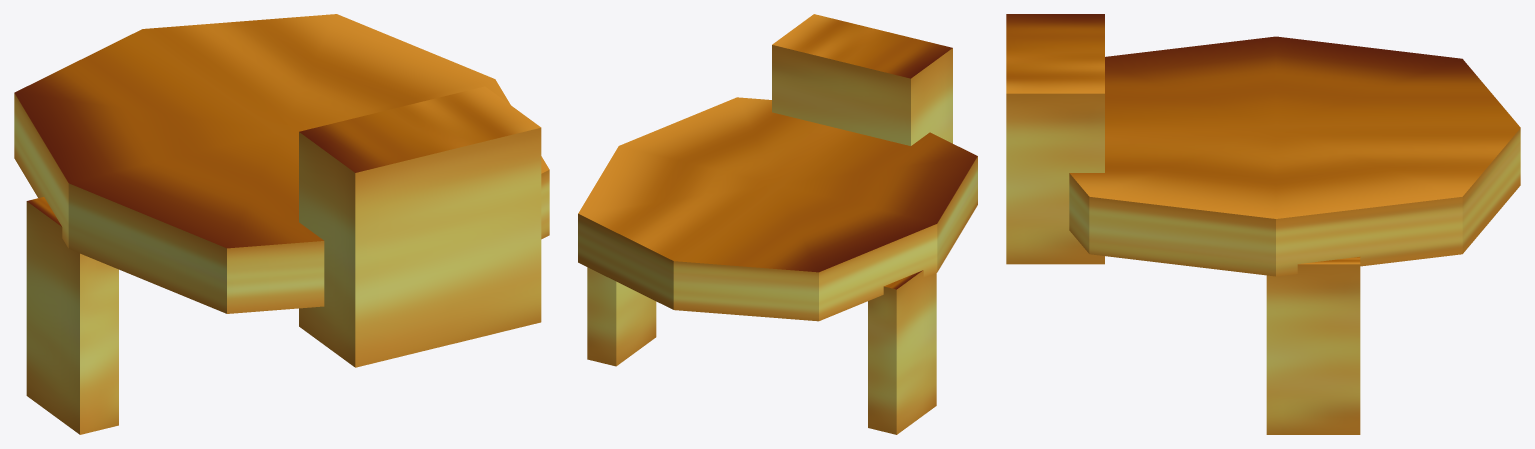
Rendered from helmet_olmec_1.dae.
3 views of the same model, side by side, from view 1: azimuth 30°, elevation 25°; view 2: azimuth 150°, elevation 25°; view 3: azimuth 270°, elevation 25° (orthographic). The views are drawn at different scales.
Parts seen in each view (by area): view 1: olmec_1; view 2: olmec_1; view 3: olmec_1.
Boxes of the visible parts, x1=… form: olmec_1: x1=14, y1=14, x2=549, y2=434; olmec_1: x1=578, y1=14, x2=977, y2=434; olmec_1: x1=1006, y1=14, x2=1520, y2=434.
Size of the model in its own units: 0.4756 by 0.5666 by 0.3619.
